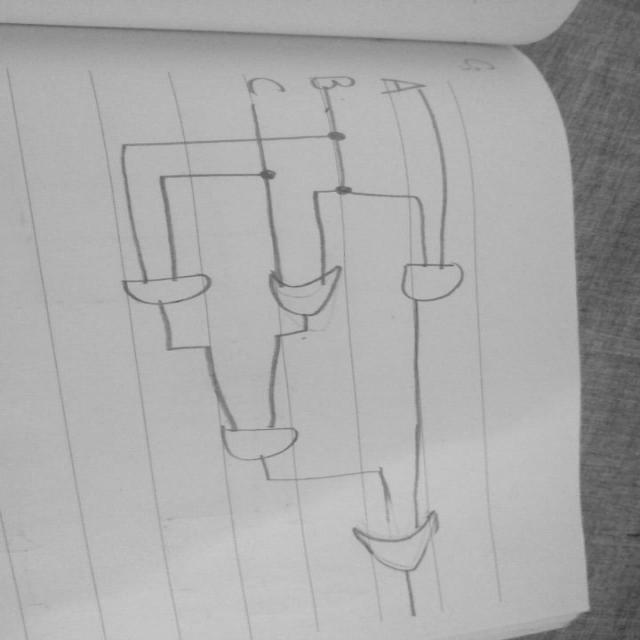AND: (195, 418, 322, 470), (385, 254, 485, 309), (111, 274, 232, 311)
OR: (338, 504, 480, 580), (256, 260, 361, 324)
